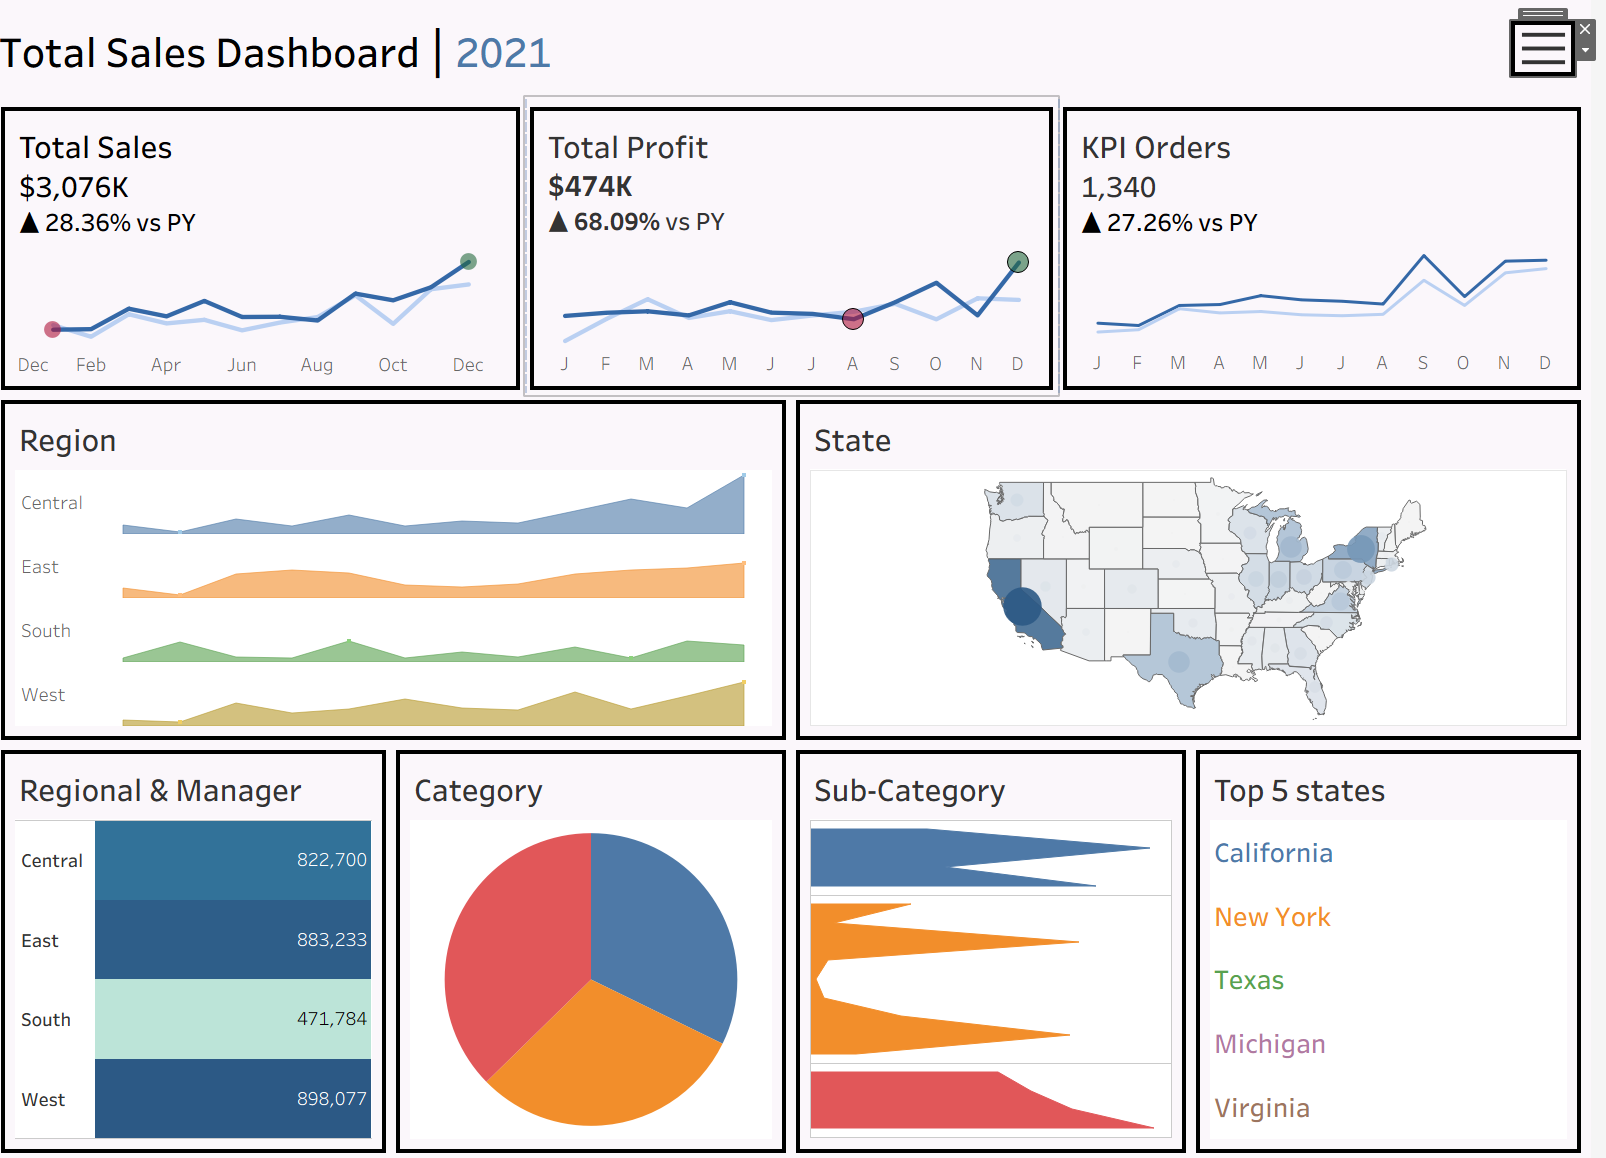

What the dashboard file says about the page in this screenshot:
{"tool":"tableau","page":{"name":"Dashboard Published","canvas":[1600,1200],"ordinal":1},"visuals":[{"type":"text","box":[0,0,1600,98]},{"type":"dashboard-object","box":[1520,22,64,55]},{"type":"text","box":[1330,34,271,53]},{"type":"blank","box":[1330,87,271,10]},{"type":"parameter","param":"[Parameters].[Parameter 2]","box":[1330,97,271,123]},{"type":"worksheet","title":"KPI Sales","mark":"Line","rows":["Min/Max Profits (copy)_2094173858554765330"],"cols":["Order Date"],"box":[0,98,534,298]},{"type":"worksheet","title":"KPI Profits","mark":"Line","rows":["Calculation_2094173858494541834"],"cols":["Order Date"],"box":[534,98,533,298]},{"type":"worksheet","title":"KPI Orders","mark":"Line","rows":["CY Sales (copy)_2094173858559225878","CY Orders (copy)_2094173858559451159"],"cols":["Order Date"],"box":[1067,98,533,298]},{"type":"parameter","param":"[Parameters].[Parameter 1]","box":[1330,220,271,183]},{"type":"worksheet","title":"Region","mark":"Area","rows":["Region","Calculation_2094173859539959848","Calculation_2094173859548319788"],"cols":["Order Date"],"box":[0,396,800,350]},{"type":"worksheet","title":"State","mark":"Automatic","box":[800,396,800,350]},{"type":"filter","title":"Region","param":"[federated.03w870u1w8xa0911k50a51h12tv1].[none:Region:nk]","box":[1330,403,271,210]},{"type":"filter","title":"Category","param":"[federated.03w870u1w8xa0911k50a51h12tv1].[none:Category:nk]","box":[1330,613,271,173]},{"type":"worksheet","title":"Regional & Manager","mark":"Square","rows":["Region"],"box":[0,746,400,418]},{"type":"worksheet","title":"Category","mark":"Pie","box":[400,746,400,418]},{"type":"worksheet","title":"Sub-category","mark":"Area","rows":["Category","Sub-Category"],"cols":["Calculation_2094173859539959848"],"box":[800,746,400,418]},{"type":"worksheet","title":"Top 5 states","mark":"Text","rows":["State/Province"],"box":[1200,746,400,418]},{"type":"filter","title":"Sub-category","param":"[federated.03w870u1w8xa0911k50a51h12tv1].[none:Sub-Category:nk]","box":[1330,786,271,70]}]}

Visuals, with their boxes on the page's 1600x1200 design canvas (x1, y1, x2, y2). These are canvas units, not pixel positions in the 1606x1158 screenshot, which may show the page scaled, cropped or inside an application window:
text: {"x1": 0, "y1": 0, "x2": 1600, "y2": 98}
dashboard-object: {"x1": 1520, "y1": 22, "x2": 1584, "y2": 77}
text: {"x1": 1330, "y1": 34, "x2": 1601, "y2": 87}
blank: {"x1": 1330, "y1": 87, "x2": 1601, "y2": 97}
parameter: {"x1": 1330, "y1": 97, "x2": 1601, "y2": 220}
"KPI Sales" worksheet (Line marks): {"x1": 0, "y1": 98, "x2": 534, "y2": 396}
"KPI Profits" worksheet (Line marks): {"x1": 534, "y1": 98, "x2": 1067, "y2": 396}
"KPI Orders" worksheet (Line marks): {"x1": 1067, "y1": 98, "x2": 1600, "y2": 396}
parameter: {"x1": 1330, "y1": 220, "x2": 1601, "y2": 403}
"Region" worksheet (Area marks): {"x1": 0, "y1": 396, "x2": 800, "y2": 746}
"State" worksheet: {"x1": 800, "y1": 396, "x2": 1600, "y2": 746}
"Region" filter: {"x1": 1330, "y1": 403, "x2": 1601, "y2": 613}
"Category" filter: {"x1": 1330, "y1": 613, "x2": 1601, "y2": 786}
"Regional & Manager" worksheet (Square marks): {"x1": 0, "y1": 746, "x2": 400, "y2": 1164}
"Category" worksheet (Pie marks): {"x1": 400, "y1": 746, "x2": 800, "y2": 1164}
"Sub-category" worksheet (Area marks): {"x1": 800, "y1": 746, "x2": 1200, "y2": 1164}
"Top 5 states" worksheet (Text marks): {"x1": 1200, "y1": 746, "x2": 1600, "y2": 1164}
"Sub-category" filter: {"x1": 1330, "y1": 786, "x2": 1601, "y2": 856}
